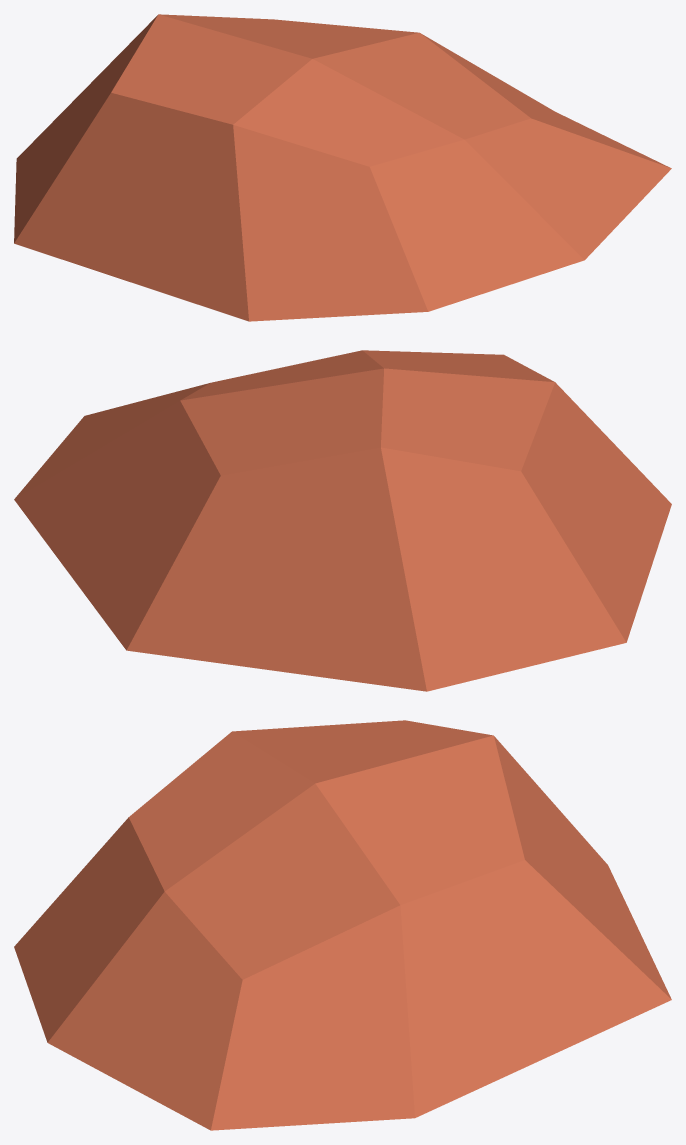
The model's file is Rock_Mesa_Medium_11.fbx.
3 views of the same model, one above another, from view 1: azimuth 30°, elevation 25°; view 2: azimuth 150°, elevation 25°; view 3: azimuth 270°, elevation 25° (orthographic). The views are drawn at different scales.
Parts seen in each view (by area): view 1: Rock; view 2: Rock; view 3: Rock.
Boxes of the visible parts, x1=… form: Rock: x1=14, y1=14, x2=671, y2=321; Rock: x1=14, y1=350, x2=671, y2=691; Rock: x1=14, y1=720, x2=671, y2=1130.
Size of the model in its own units: 74.86 by 20.07 by 65.75.
